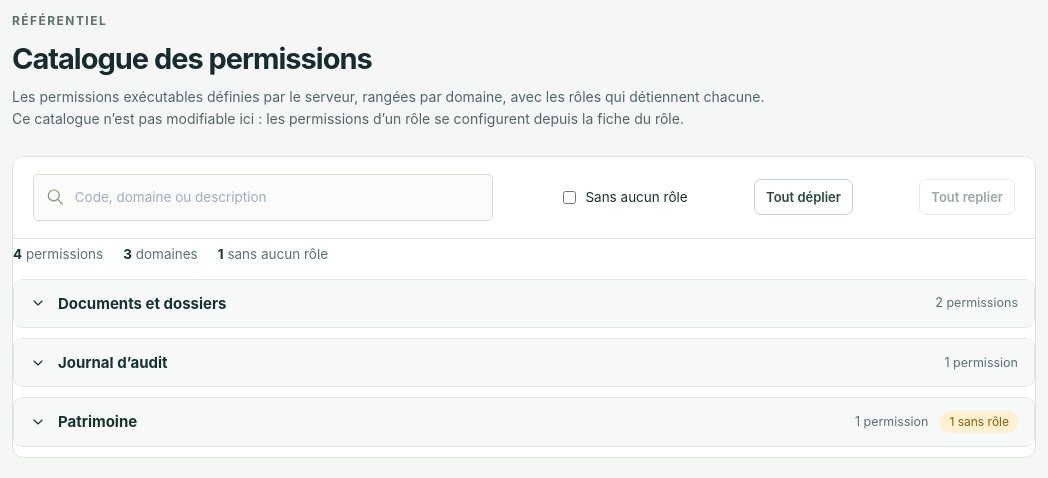
Test case: la recherche part au serveur et déplie ce qu’elle trouve
Check: the button "Journal d’audit 1 permission" is shown, box [14,339,1034,386]
Type "audit" into the field named "Rechercher une permission".
click(277, 197); type("audit")  # box [75,175,480,220]
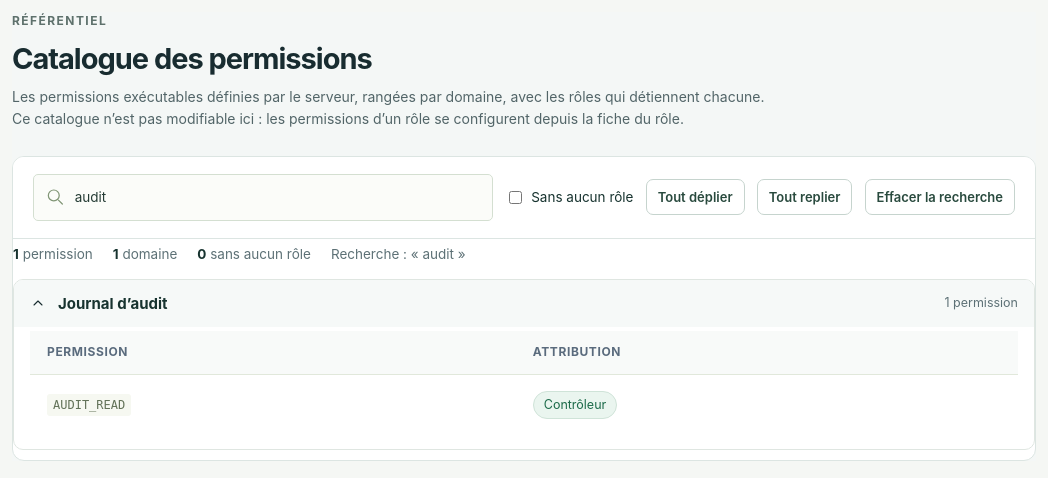
Check: the button "Journal d’audit 1 permission" is expanded, box [14,280,1034,327]
Check: the button "Patrimoine" is gone
Check: the message shows "Recherche : « audit »", box [13,246,466,262]
